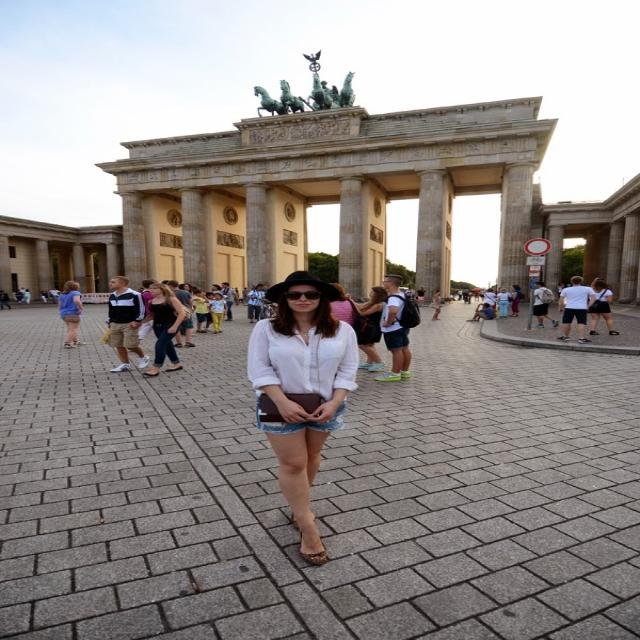body: (243, 269, 361, 567), (130, 282, 191, 376), (372, 273, 422, 381), (104, 276, 150, 372), (344, 286, 390, 372), (557, 276, 596, 342), (164, 279, 195, 348), (56, 279, 86, 348), (586, 277, 620, 335), (134, 278, 157, 348), (328, 283, 362, 327), (529, 281, 559, 328), (404, 286, 486, 302), (191, 288, 214, 333), (244, 282, 266, 324), (208, 292, 229, 334), (220, 282, 240, 321), (13, 287, 52, 304), (465, 302, 497, 321), (230, 284, 256, 306), (426, 288, 442, 321), (496, 287, 513, 318), (258, 284, 273, 319), (177, 282, 201, 302), (508, 284, 522, 317), (318, 78, 341, 98), (483, 287, 499, 311), (262, 299, 280, 318), (0, 289, 12, 310), (403, 286, 415, 305), (415, 286, 426, 306), (49, 287, 61, 305), (205, 291, 215, 311), (555, 282, 564, 302), (93, 274, 102, 293), (14, 288, 24, 305), (22, 288, 32, 305), (18, 286, 27, 302), (461, 286, 470, 300), (212, 285, 223, 295), (455, 288, 463, 300), (188, 286, 197, 293), (160, 279, 170, 285), (137, 286, 145, 293)
